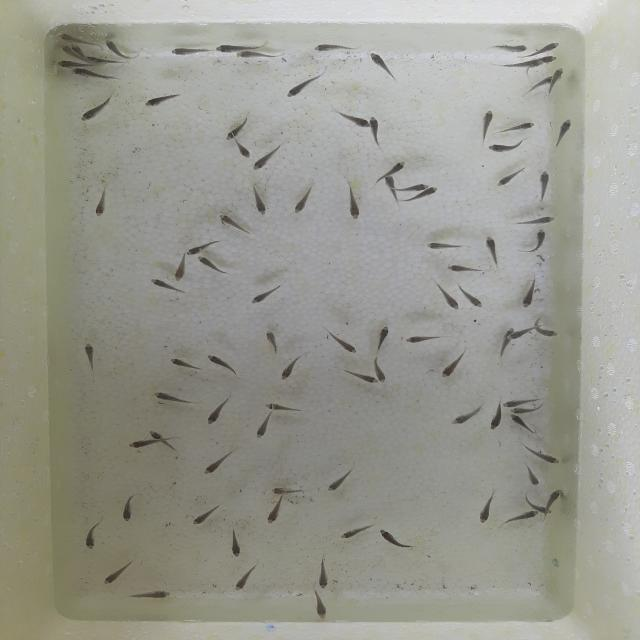fingerling: (282, 70, 330, 102), (77, 94, 117, 126), (204, 392, 238, 426), (366, 50, 398, 86), (322, 326, 359, 356), (514, 227, 551, 257), (245, 281, 290, 305), (472, 490, 502, 526), (438, 346, 470, 379), (375, 527, 417, 552), (338, 182, 365, 220), (492, 163, 530, 190), (214, 211, 254, 236), (148, 388, 202, 406), (142, 89, 186, 111), (204, 352, 241, 378), (101, 557, 134, 586), (448, 401, 485, 426), (189, 499, 222, 527), (550, 116, 577, 150), (311, 552, 335, 590), (519, 445, 562, 466), (78, 339, 102, 376), (486, 137, 528, 158), (531, 168, 554, 206), (434, 281, 461, 313), (165, 44, 215, 61), (483, 233, 504, 273), (200, 451, 233, 476), (518, 277, 543, 310), (232, 563, 260, 592), (326, 467, 356, 494), (70, 69, 120, 85), (193, 255, 233, 275), (422, 238, 472, 254), (490, 120, 540, 136), (332, 108, 370, 129), (92, 186, 116, 219), (311, 40, 365, 54), (125, 586, 175, 601), (224, 526, 246, 560), (260, 326, 283, 358), (83, 517, 105, 550), (119, 491, 141, 524), (290, 183, 313, 214), (509, 414, 541, 436), (476, 105, 498, 137), (500, 510, 539, 527), (443, 261, 486, 276), (249, 184, 269, 216), (337, 523, 372, 541), (224, 117, 250, 141), (166, 356, 205, 372), (264, 498, 287, 525), (372, 323, 392, 354), (252, 412, 274, 440), (511, 215, 558, 228), (490, 59, 544, 70), (402, 332, 453, 343), (235, 51, 288, 61), (311, 591, 328, 621), (523, 462, 542, 487), (279, 359, 300, 381), (125, 438, 160, 451), (487, 406, 504, 432), (262, 401, 302, 412), (269, 484, 309, 495), (461, 291, 485, 309), (532, 41, 560, 56), (490, 44, 528, 55), (173, 255, 188, 282), (369, 114, 380, 150), (384, 159, 408, 175), (231, 142, 252, 160), (250, 153, 268, 171), (501, 398, 533, 408), (146, 278, 172, 290), (536, 327, 561, 339), (213, 42, 236, 55), (544, 488, 561, 505), (57, 31, 83, 42), (103, 36, 118, 53), (54, 58, 76, 69), (509, 407, 541, 414), (186, 244, 204, 256), (358, 376, 378, 386), (552, 67, 566, 79), (145, 429, 162, 438), (545, 54, 559, 64), (506, 332, 521, 341), (59, 45, 71, 56), (428, 186, 440, 196), (416, 182, 429, 190), (378, 371, 386, 383)
